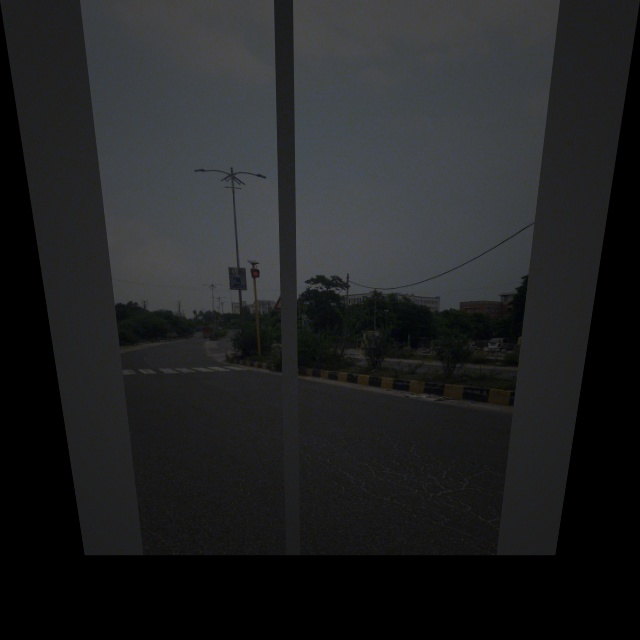Gap_in_Median: (270, 285, 296, 314)
